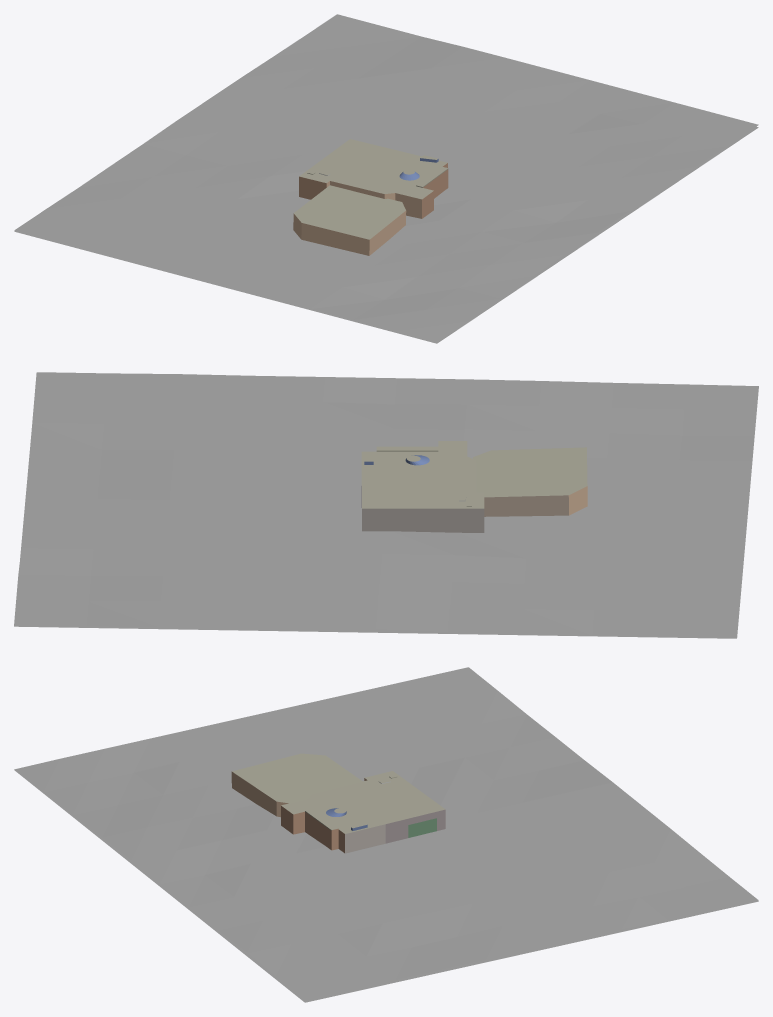
File: tech2.gltf
The picture shows the model from 3 angles, top to bottom: view 1: azimuth 30°, elevation 25°; view 2: azimuth 150°, elevation 25°; view 3: azimuth 270°, elevation 25°; orthographic projection. The views are drawn at different scales.
Parts seen in each view (by area): view 1: imagetostl_mesh271, imagetostl_mesh231, imagetostl_mesh0, imagetostl_mesh237, imagetostl_mesh43, imagetostl_mesh31, imagetostl_mesh6, imagetostl_mesh25, imagetostl_mesh189, imagetostl_mesh48, imagetostl_mesh147, imagetostl_mesh170 (+168 smaller); view 2: imagetostl_mesh271, imagetostl_mesh231, imagetostl_mesh214, imagetostl_mesh0, imagetostl_mesh248, imagetostl_mesh160, imagetostl_mesh158, imagetostl_mesh159, imagetostl_mesh10, imagetostl_mesh148, imagetostl_mesh184, imagetostl_mesh149 (+175 smaller); view 3: imagetostl_mesh271, imagetostl_mesh231, imagetostl_mesh0, imagetostl_mesh213, imagetostl_mesh239, imagetostl_mesh238, imagetostl_mesh178, imagetostl_mesh197, imagetostl_mesh30, imagetostl_mesh177, imagetostl_mesh41, imagetostl_mesh29 (+168 smaller).
Part boxes in pixels (x1=…): imagetostl_mesh271: x1=299, y1=139, x2=447, y2=199; imagetostl_mesh231: x1=294, y1=185, x2=405, y2=239; imagetostl_mesh0: x1=14, y1=126, x2=758, y2=343; imagetostl_mesh237: x1=301, y1=223, x2=369, y2=255; imagetostl_mesh43: x1=343, y1=277, x2=416, y2=299; imagetostl_mesh31: x1=514, y1=200, x2=587, y2=222; imagetostl_mesh6: x1=460, y1=264, x2=532, y2=287; imagetostl_mesh25: x1=417, y1=264, x2=490, y2=287; imagetostl_mesh189: x1=144, y1=132, x2=217, y2=154; imagetostl_mesh48: x1=407, y1=221, x2=480, y2=243; imagetostl_mesh147: x1=196, y1=176, x2=269, y2=198; imagetostl_mesh170: x1=186, y1=132, x2=259, y2=154; imagetostl_mesh271: x1=361, y1=441, x2=484, y2=508; imagetostl_mesh231: x1=473, y1=447, x2=587, y2=497; imagetostl_mesh214: x1=362, y1=508, x2=484, y2=532; imagetostl_mesh0: x1=14, y1=388, x2=758, y2=638; imagetostl_mesh248: x1=484, y1=495, x2=568, y2=516; imagetostl_mesh160: x1=18, y1=548, x2=89, y2=575; imagetostl_mesh158: x1=91, y1=549, x2=162, y2=575; imagetostl_mesh159: x1=22, y1=548, x2=93, y2=575; imagetostl_mesh10: x1=395, y1=378, x2=466, y2=404; imagetostl_mesh148: x1=452, y1=555, x2=523, y2=583; imagetostl_mesh184: x1=592, y1=610, x2=663, y2=636; imagetostl_mesh149: x1=382, y1=554, x2=453, y2=581; imagetostl_mesh271: x1=281, y1=771, x2=445, y2=833; imagetostl_mesh231: x1=232, y1=753, x2=362, y2=803; imagetostl_mesh0: x1=14, y1=770, x2=758, y2=1002; imagetostl_mesh213: x1=385, y1=809, x2=445, y2=843; imagetostl_mesh239: x1=345, y1=824, x2=385, y2=853; imagetostl_mesh238: x1=231, y1=771, x2=276, y2=816; imagetostl_mesh178: x1=639, y1=863, x2=683, y2=896; imagetostl_mesh197: x1=655, y1=853, x2=700, y2=886; imagetostl_mesh30: x1=205, y1=840, x2=250, y2=874; imagetostl_mesh177: x1=609, y1=863, x2=654, y2=896; imagetostl_mesh41: x1=105, y1=738, x2=150, y2=772; imagetostl_mesh29: x1=177, y1=840, x2=221, y2=874.
Bounding box in the file's own units: 18178 × 671 × 17106.
